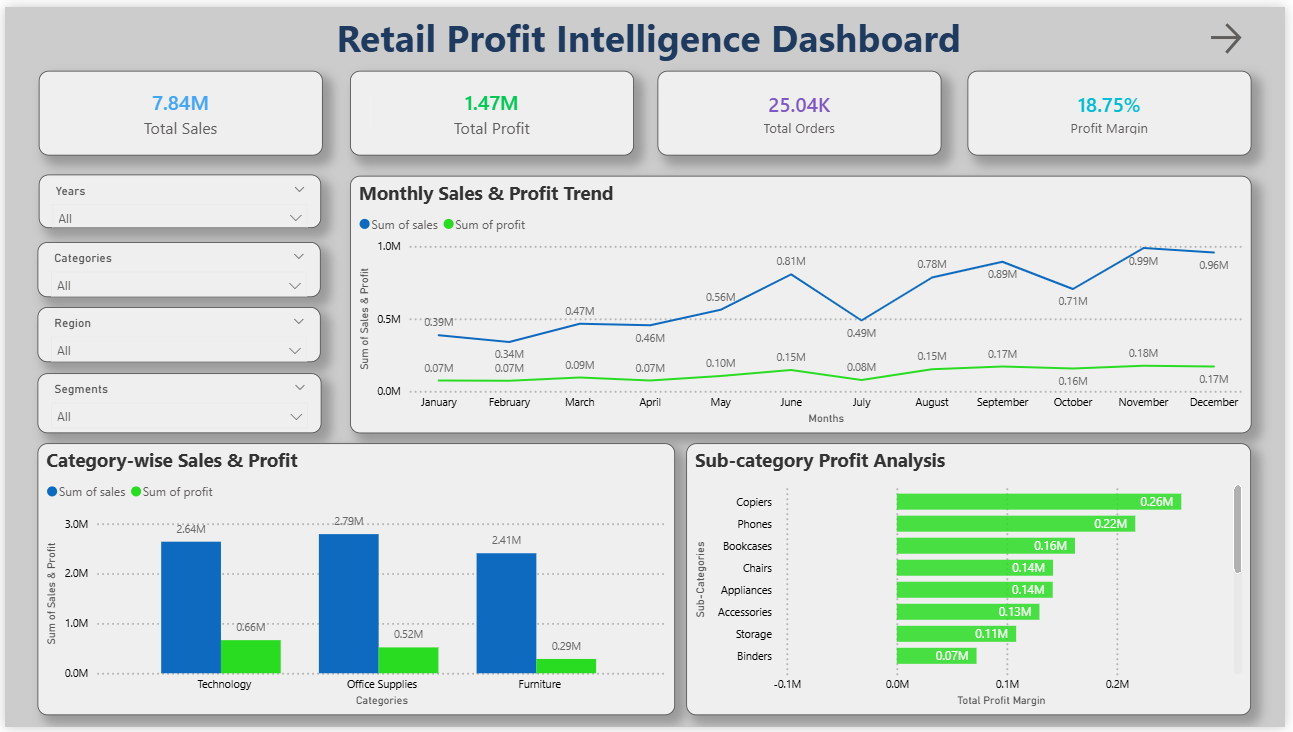

This screenshot's page, from the dashboard's own definition file:
{"tool":"powerbi","page":{"name":"Dashboard_Page 1","canvas":[1280,720],"ordinal":0},"visuals":[{"type":"slicer","fields":{"Values":["Sales_analysis_cleaned.year"]},"box":[33.8,167.5,282.5,53.8],"z":0},{"type":"slicer","fields":{"Values":["Sales_analysis_cleaned.category"]},"box":[32,235.1,283.1,55.4],"z":1000},{"type":"slicer","fields":{"Values":["Sales_analysis_cleaned.region"]},"box":[32,300.3,283.1,55.4],"z":2000},{"type":"slicer","fields":{"Values":["Sales_analysis_cleaned.segment"]},"box":[32,366,284.3,60.3],"z":3000},{"type":"cardVisual","fields":{"Data":["Sum(Sales_analysis_cleaned.profit)"]},"box":[344.6,64,284.3,85],"z":4000},{"type":"cardVisual","fields":{"Data":["Count(Sales_analysis_cleaned.order_id)"]},"box":[652.3,64,284.3,85],"z":5000},{"type":"cardVisual","fields":{"Data":["Sales_analysis_cleaned.Profit Margin"]},"box":[962.5,64,284.3,85],"z":6000},{"type":"textbox","box":[286.8,0,715.1,64],"z":7000},{"type":"cardVisual","fields":{"Data":["Sum(Sales_analysis_cleaned.sales)"]},"box":[34,64,284.3,85],"z":8000},{"type":"lineChart","title":"Monthly Sales & Profit Trend","fields":{"Category":["Sales_analysis_cleaned.month_name"],"Y":["Sum(Sales_analysis_cleaned.sales)","Sum(Sales_analysis_cleaned.profit)"]},"box":[345,168.8,901.2,257.5],"z":9000},{"type":"clusteredColumnChart","title":"Category-wise Sales & Profit","fields":{"Category":["Sales_analysis_cleaned.category"],"Y":["Sum(Sales_analysis_cleaned.sales)","Sum(Sales_analysis_cleaned.profit)"]},"box":[32,435.7,637.5,272],"z":10000},{"type":"clusteredBarChart","title":"Sub-category Profit Analysis","fields":{"Category":["Sales_analysis_cleaned.sub_category"],"Y":["Sum(Sales_analysis_cleaned.profit)"]},"box":[681.8,435.7,564.9,272],"z":11000},{"type":"actionButton","box":[1200,11.1,46.8,40.6],"z":12001}]}

Visuals, with their boxes in screenshot pixels (x1, y1, x2, y2), scaled from the page's 1280x720 canvas onto the 1293x732 screenshot:
slicer - Sales_analysis_cleaned.year: bbox=[34, 170, 320, 225]
slicer - Sales_analysis_cleaned.category: bbox=[32, 239, 318, 295]
slicer - Sales_analysis_cleaned.region: bbox=[32, 305, 318, 362]
slicer - Sales_analysis_cleaned.segment: bbox=[32, 372, 320, 433]
cardVisual - Sum(Sales_analysis_cleaned.profit): bbox=[348, 65, 635, 151]
cardVisual - Count(Sales_analysis_cleaned.order_id): bbox=[659, 65, 946, 151]
cardVisual - Sales_analysis_cleaned.Profit Margin: bbox=[972, 65, 1259, 151]
textbox: bbox=[290, 0, 1012, 65]
cardVisual - Sum(Sales_analysis_cleaned.sales): bbox=[34, 65, 322, 151]
"Monthly Sales & Profit Trend" lineChart: bbox=[349, 172, 1259, 433]
"Category-wise Sales & Profit" clusteredColumnChart: bbox=[32, 443, 676, 719]
"Sub-category Profit Analysis" clusteredBarChart: bbox=[689, 443, 1259, 719]
actionButton: bbox=[1212, 11, 1259, 53]
